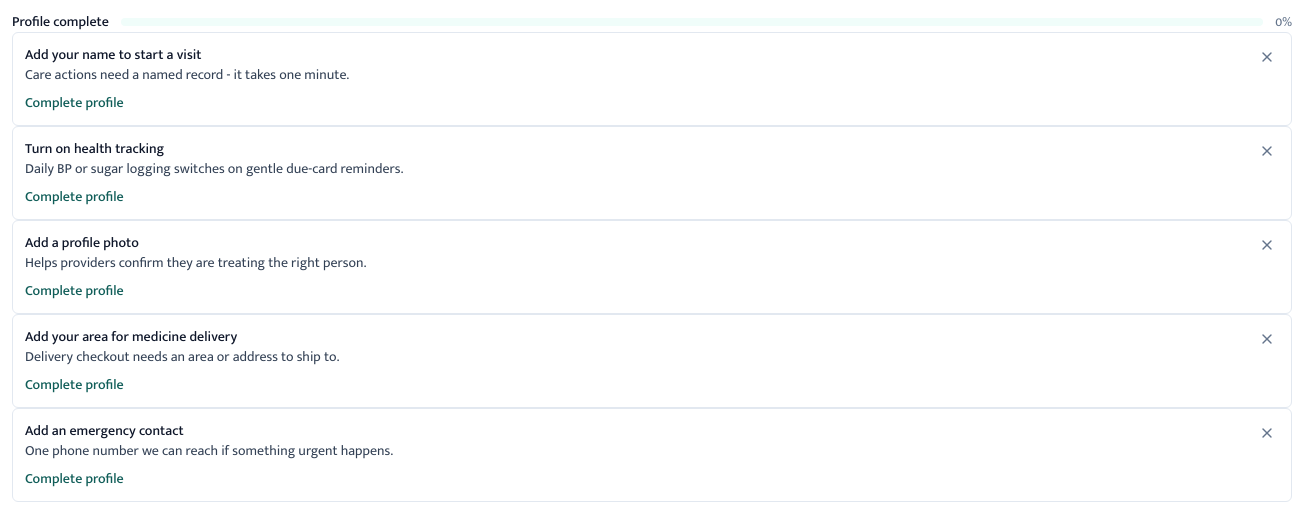
Test: ProfileNudgeCards › lets a card be dismissed without a modal
The image size is (1304, 519).
Note: Click dismiss on the area card
Click the button with test id "pc-dismiss-area". click: (1267, 339)
box: left=1255, top=327, right=1279, bottom=351
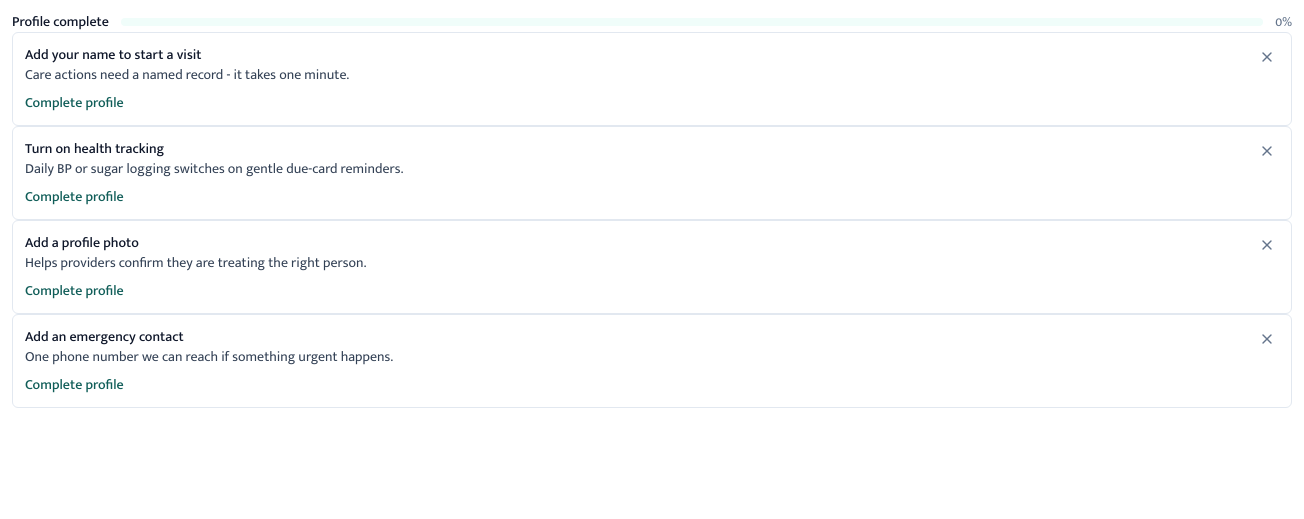
expect the heading "Add your name to start a visit" is shown: met, box left=25, top=43, right=202, bottom=66
expect the heading "Add your area for medicine delivery" is gone: met
